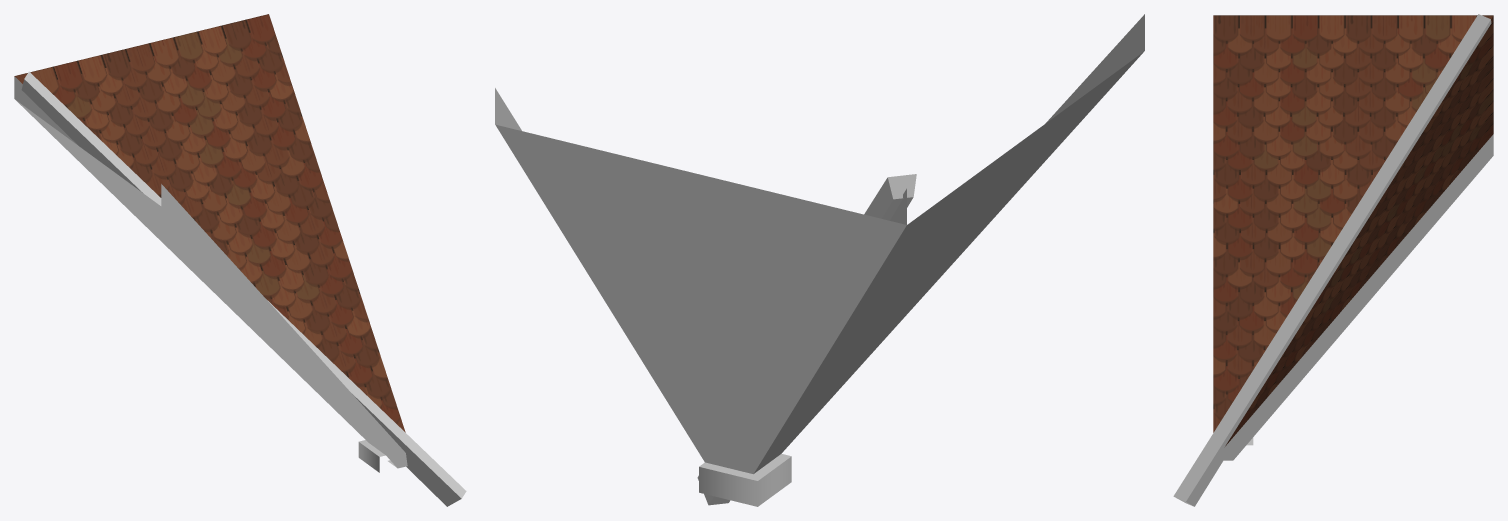
Rendered from Roof_Angle_Normal_01_B.FBX.
The picture shows the model from 3 angles, left to right: view 1: azimuth 30°, elevation 25°; view 2: azimuth 150°, elevation 25°; view 3: azimuth 270°, elevation 25°; orthographic projection. The views are drawn at different scales.
Visible parts, largest first — view 1: Roof_Angle_Normal_01_B; view 2: Roof_Angle_Normal_01_B; view 3: Roof_Angle_Normal_01_B.
Part boxes in pixels (x1,y1,x2,y2): Roof_Angle_Normal_01_B: (14, 14, 466, 506); Roof_Angle_Normal_01_B: (495, 14, 1144, 506); Roof_Angle_Normal_01_B: (1173, 14, 1493, 506).
Size of the model in its own units: 8 by 10.02 by 8.
